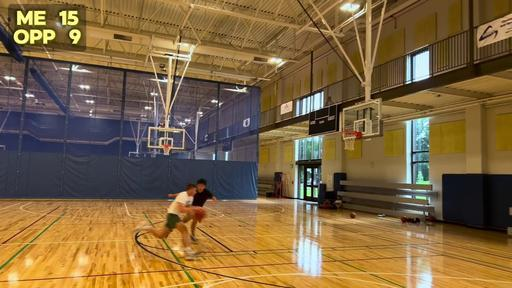ball: (196, 207, 206, 221), (350, 212, 357, 218)
human: (133, 183, 198, 257), (196, 178, 218, 207)
rim: (342, 132, 361, 150), (162, 144, 172, 156)
